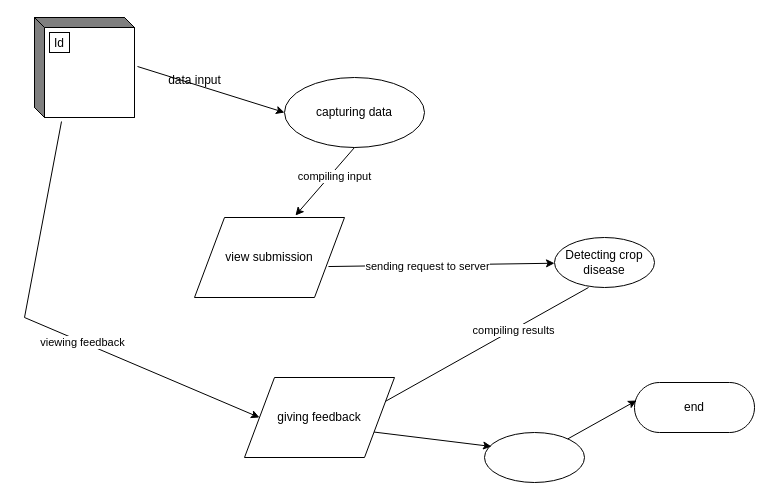
This 772x500 diagram has some shape labels left out. Here are the shapes that lost their labels. From the top down, the box of each, then its label:
(34, 16, 134, 118): farmer
(484, 432, 584, 482): storing search
